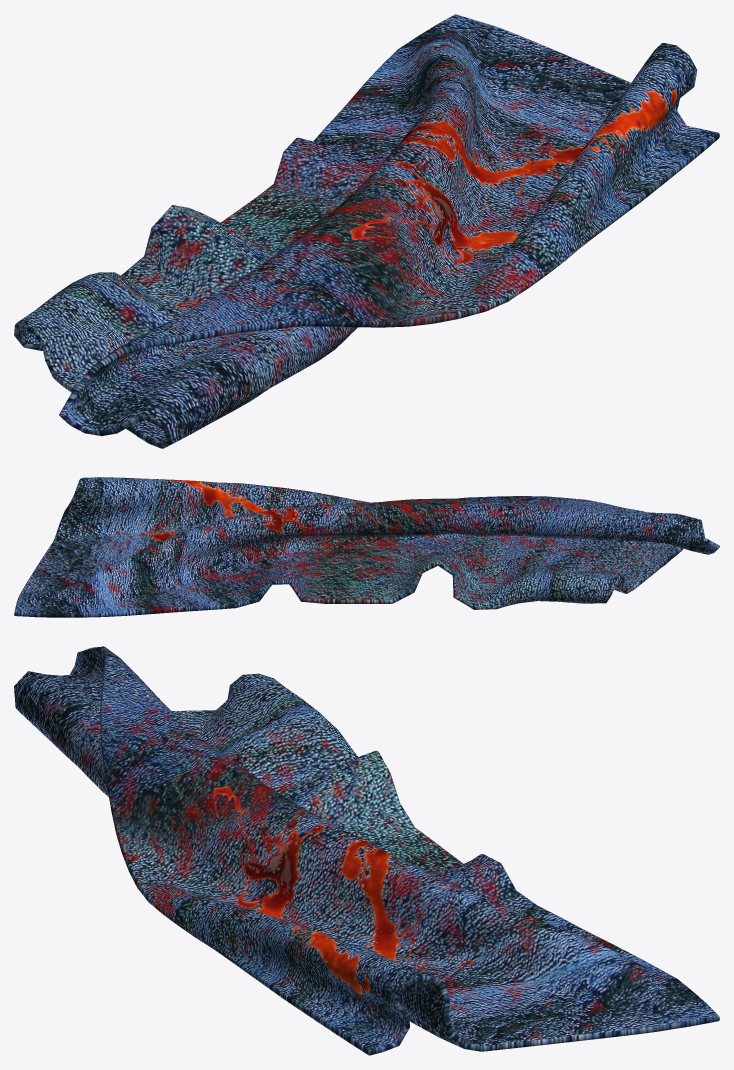
File: BloodyTowel.glb
3 renders of one model, top to bottom at view 1: azimuth 30°, elevation 25°; view 2: azimuth 150°, elevation 25°; view 3: azimuth 270°, elevation 25°, orthographic. The views are drawn at different scales.
Visible parts, largest first — view 1: Towel:pPlane1; view 2: Towel:pPlane1; view 3: Towel:pPlane1.
Part boxes in pixels (x1,y1,x2,y2): Towel:pPlane1: [14, 14, 719, 448]; Towel:pPlane1: [14, 477, 719, 617]; Towel:pPlane1: [14, 646, 719, 1055].
Size of the model in its own units: 3.79 by 0.3514 by 3.05.
Materials: 1 (1 with a texture image).
